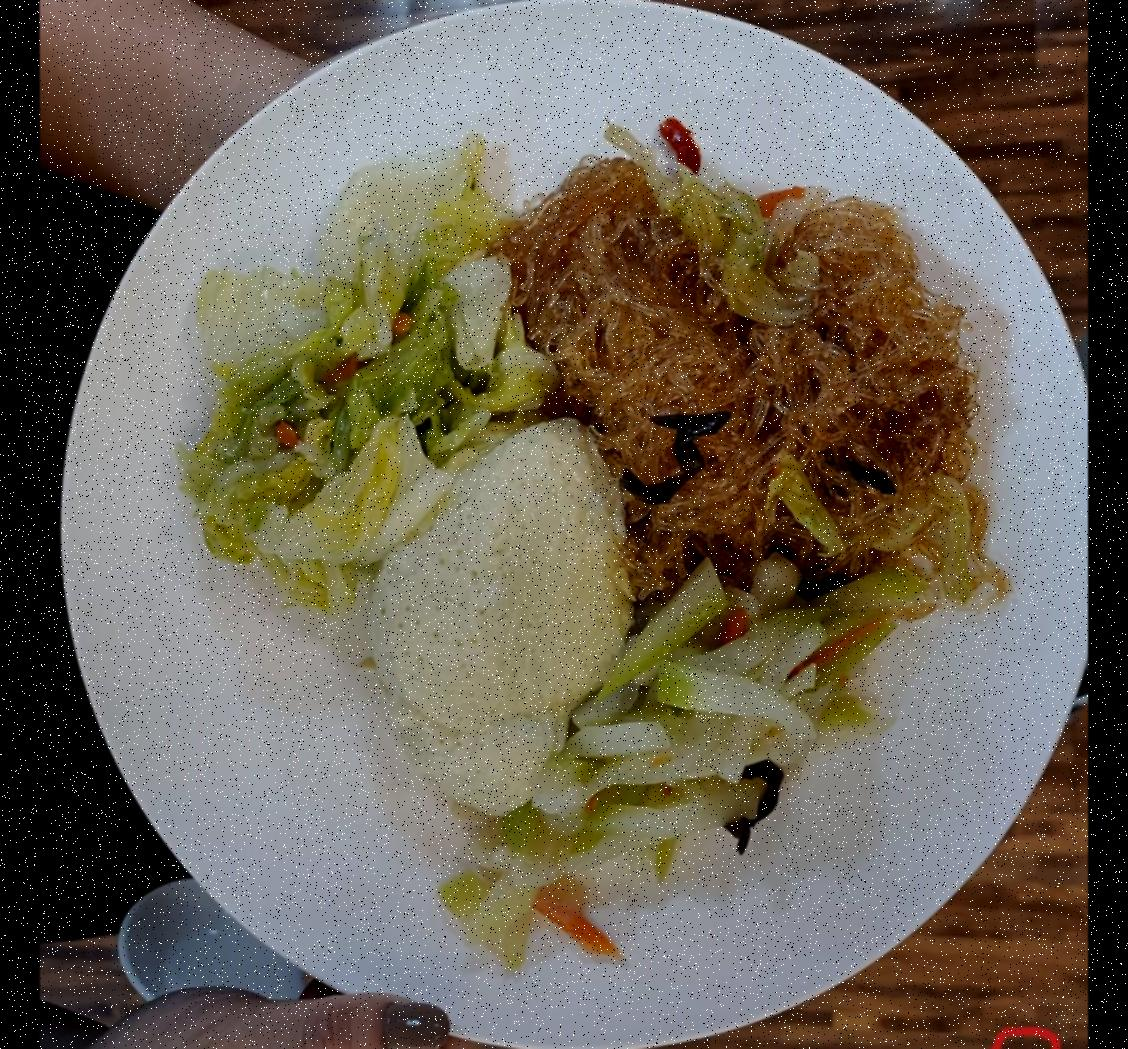plate: (60, 0, 1088, 1049)
side dish: (534, 168, 978, 518), (492, 568, 862, 942), (192, 185, 507, 576)
white rice: (375, 434, 632, 798)
